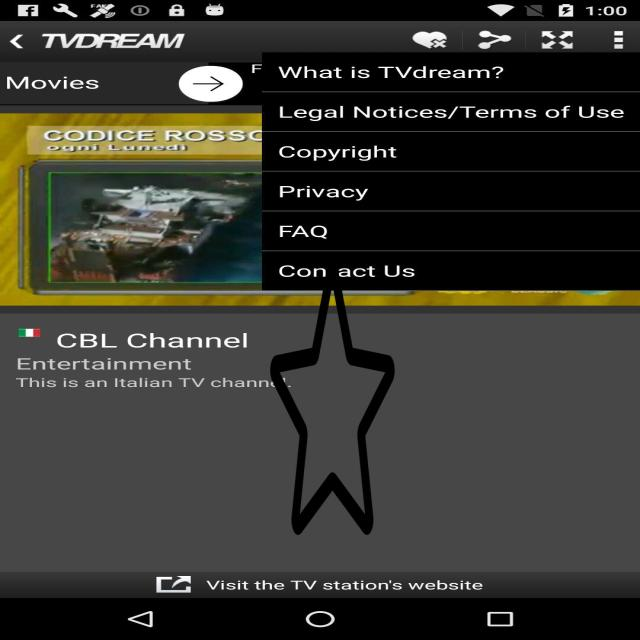forced continuity: (270, 256, 395, 540)
